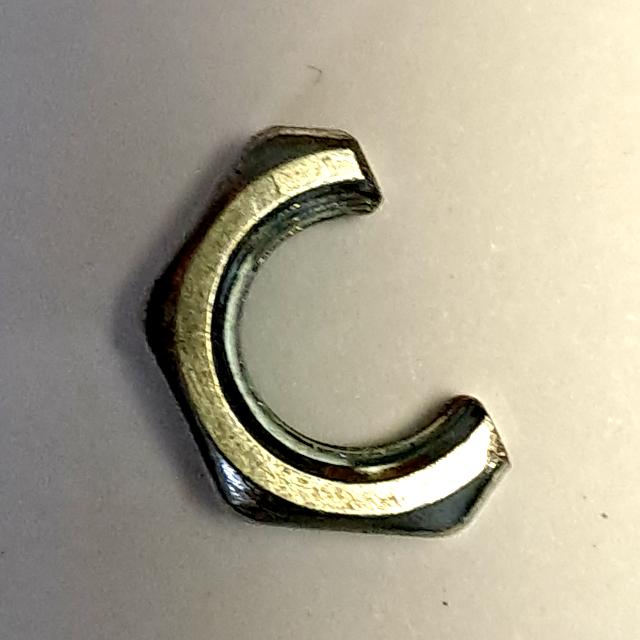Fracture: (115, 111, 539, 550)
